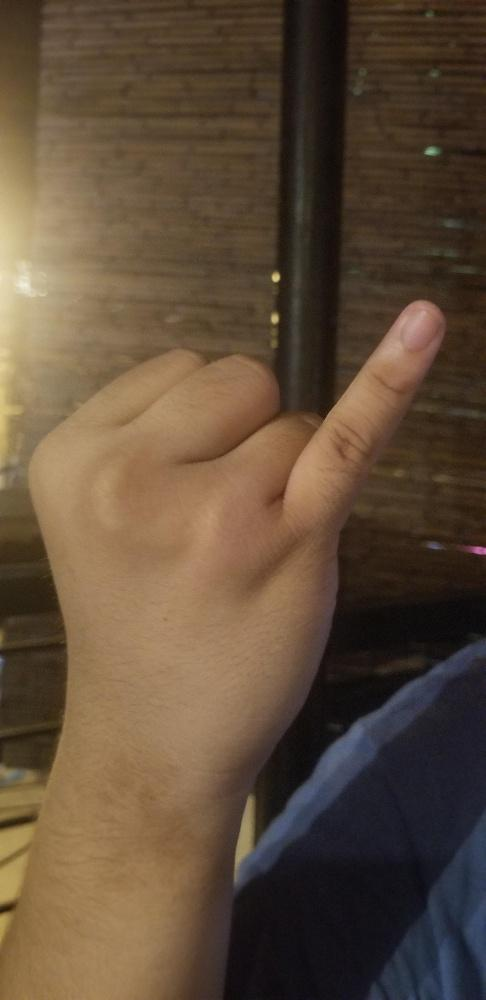j: (23, 297, 449, 741)
